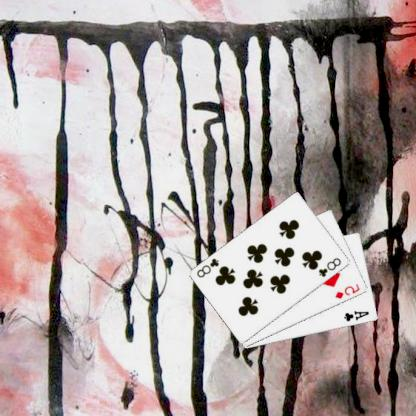5D: (334, 282, 363, 300)
8C: (196, 255, 222, 279), (318, 255, 344, 278)
AC: (344, 308, 373, 323)
